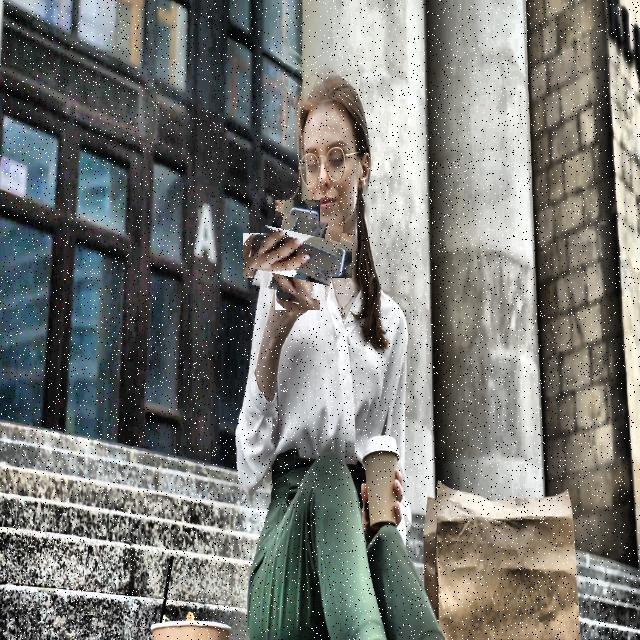Phone: (255, 213, 340, 298)
